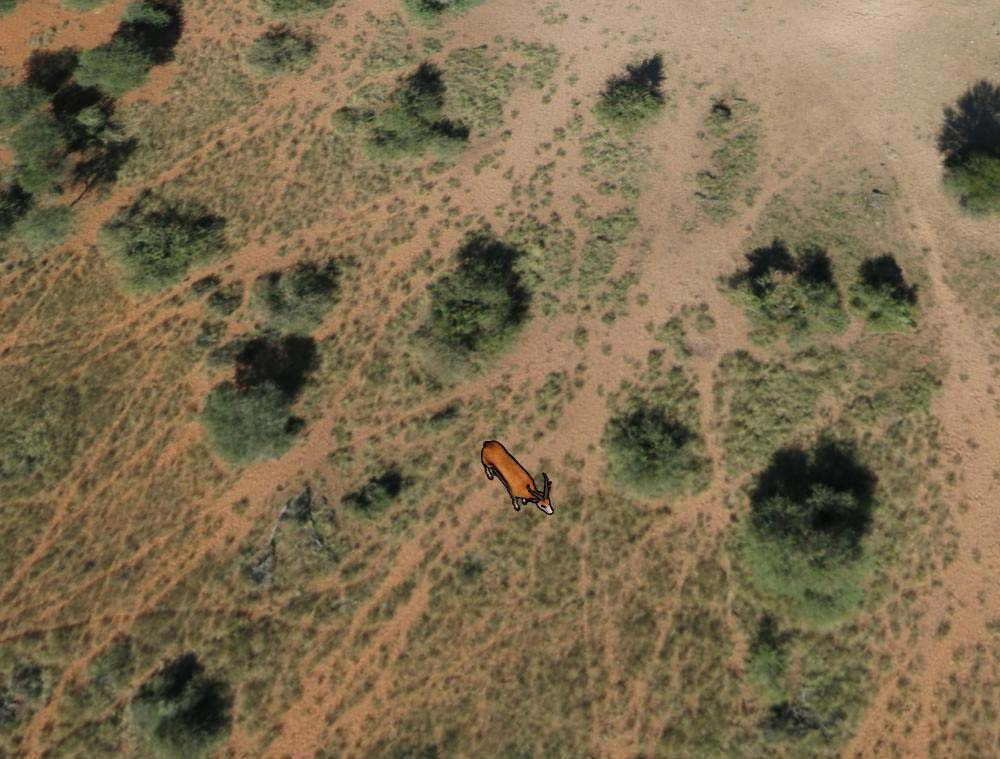springbok: (478, 434, 560, 523)
